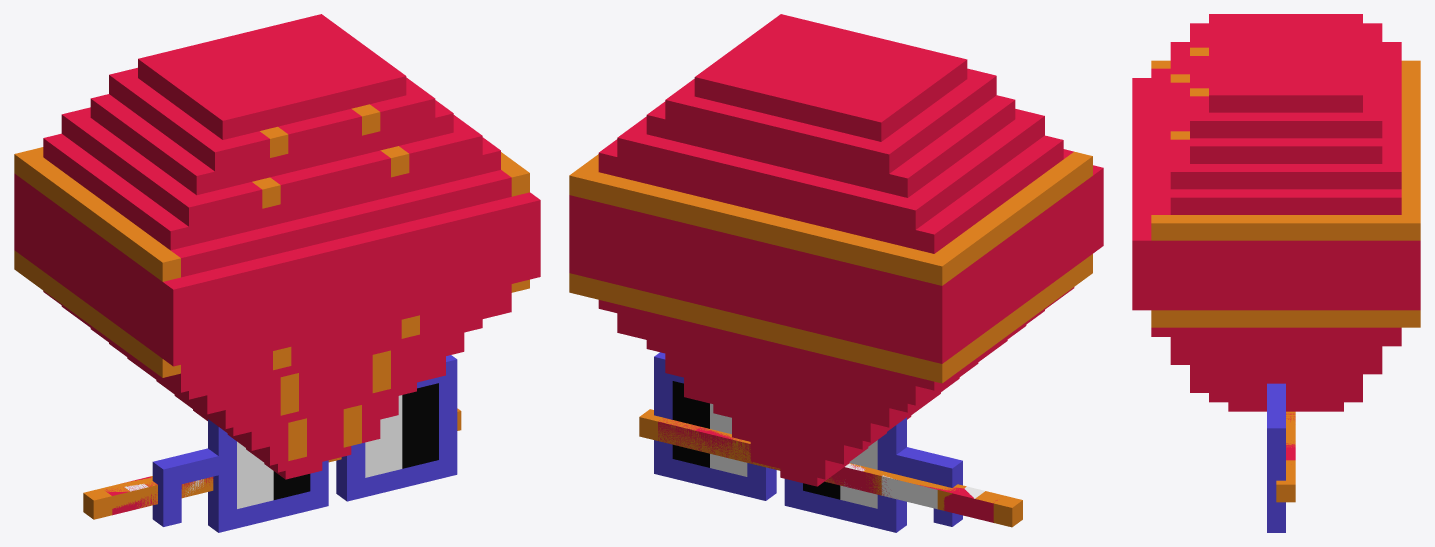
Rendered from diamondred.glb.
3 renders of one model, left to right at view 1: azimuth 30°, elevation 25°; view 2: azimuth 150°, elevation 25°; view 3: azimuth 270°, elevation 25°, orthographic. The views are drawn at different scales.
Visible parts, largest first — view 1: base, glasses, layer-2, b1, t1, t3; view 2: base, glasses, t1, layer-2, t3, t5, b1; view 3: base, glasses, t1, b1.
Part boxes in pixels (<box>): base: <box>14,14,540,479</box>; glasses: <box>152,355,457,532</box>; layer-2: <box>237,383,438,508</box>; b1: <box>86,410,460,519</box>; t1: <box>83,408,461,519</box>; t3: <box>105,459,336,515</box>; base: <box>569,14,1103,486</box>; glasses: <box>654,352,962,532</box>; t1: <box>639,409,1022,527</box>; layer-2: <box>672,381,877,508</box>; t3: <box>658,418,997,522</box>; t5: <box>695,428,895,495</box>; b1: <box>639,409,1021,526</box>; base: <box>1132,14,1420,411</box>; glasses: <box>1267,383,1285,532</box>; t1: <box>1276,437,1295,502</box>; b1: <box>1276,412,1295,484</box>.
Bounding box in the file's own units: 20 × 23 × 15.
10 materials, 10 textured.
